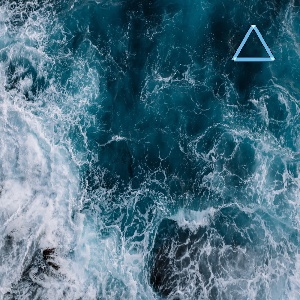triangle: (228, 21, 279, 65)
